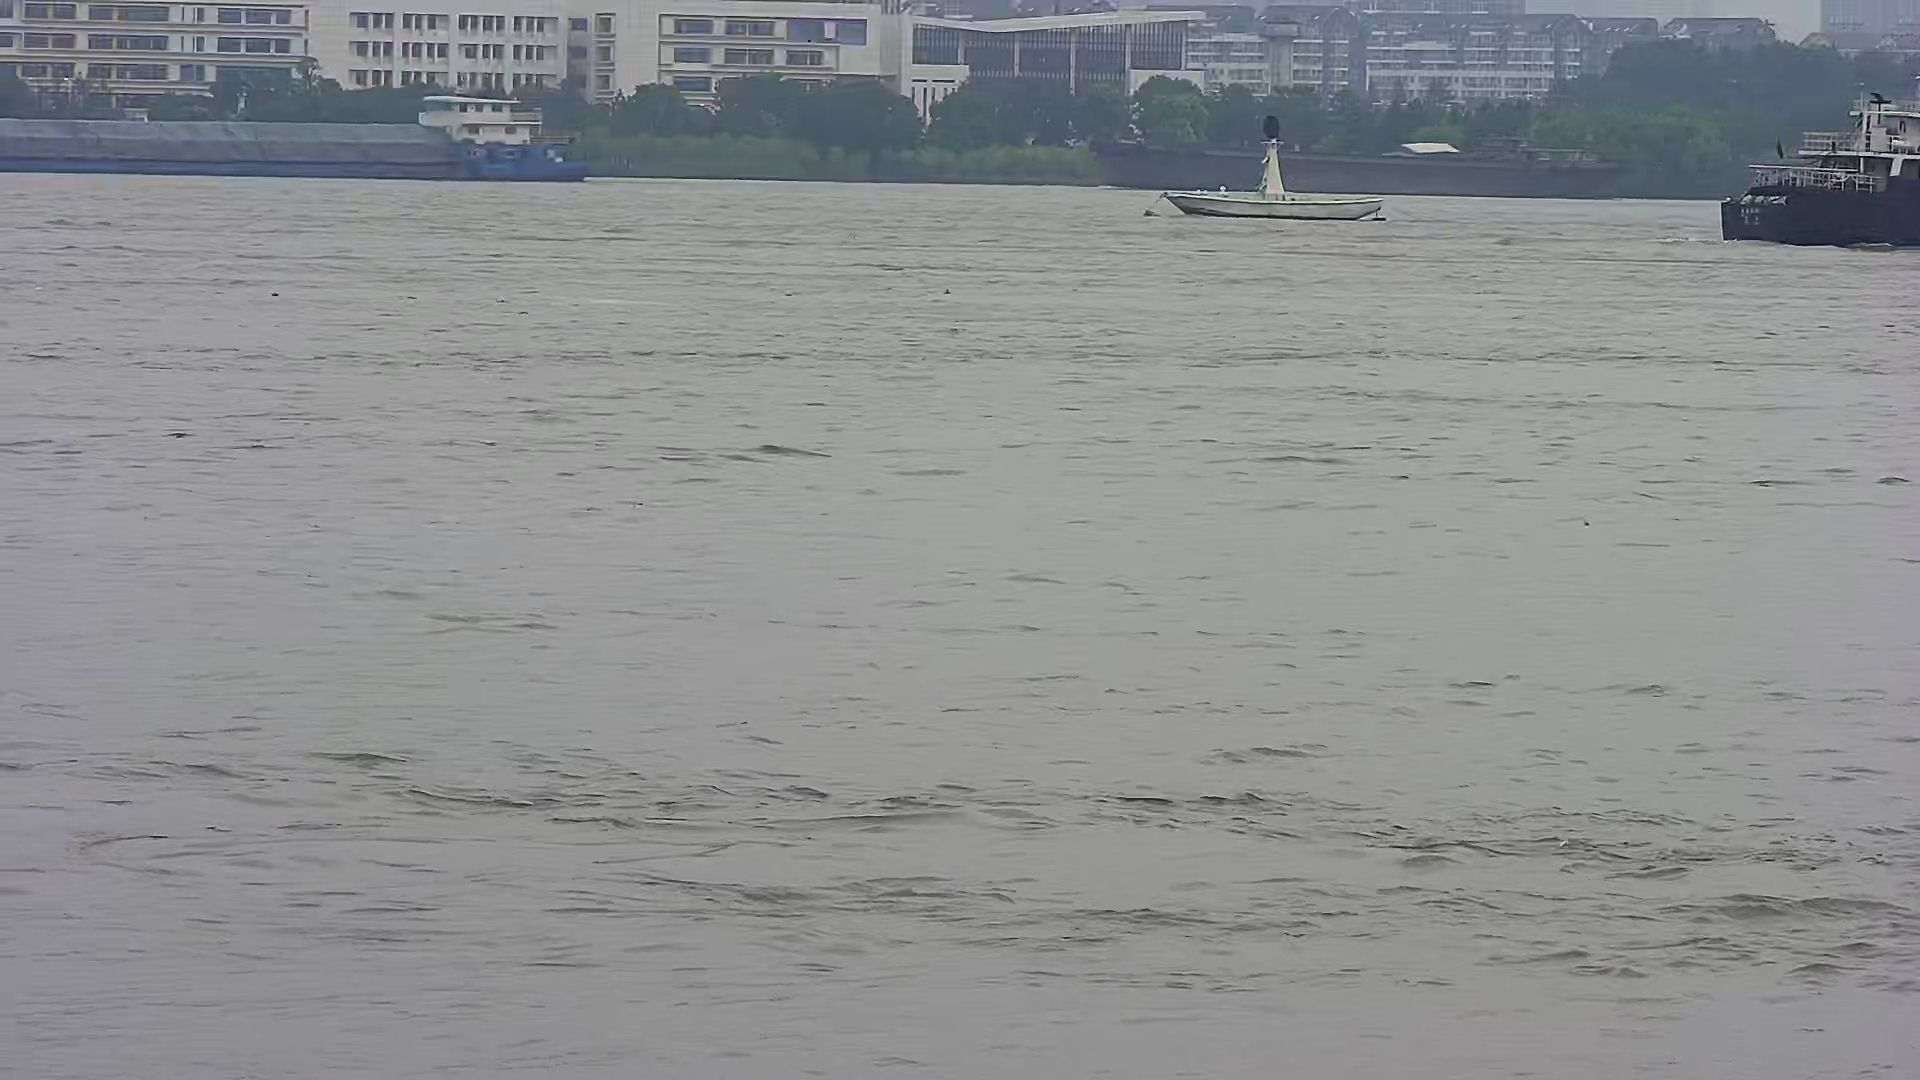boat: (1150, 103, 1398, 228)
ship: (1, 88, 603, 191), (1079, 128, 1635, 204), (1706, 79, 1920, 253)
